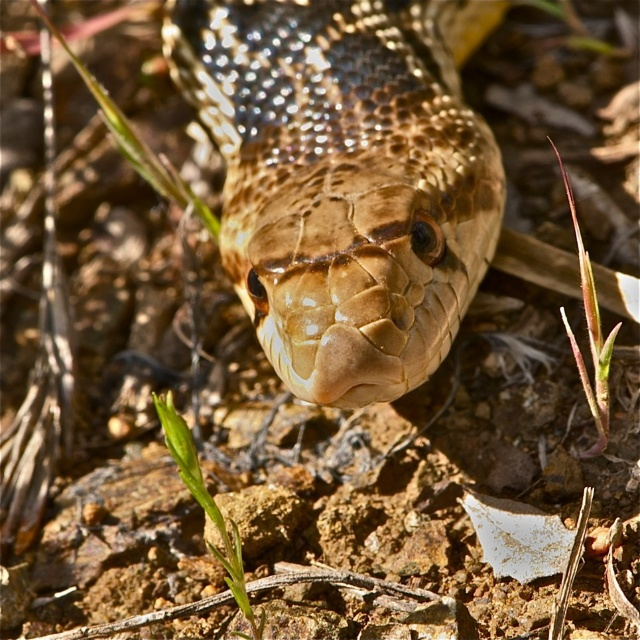Snake: (149, 0, 515, 413)
